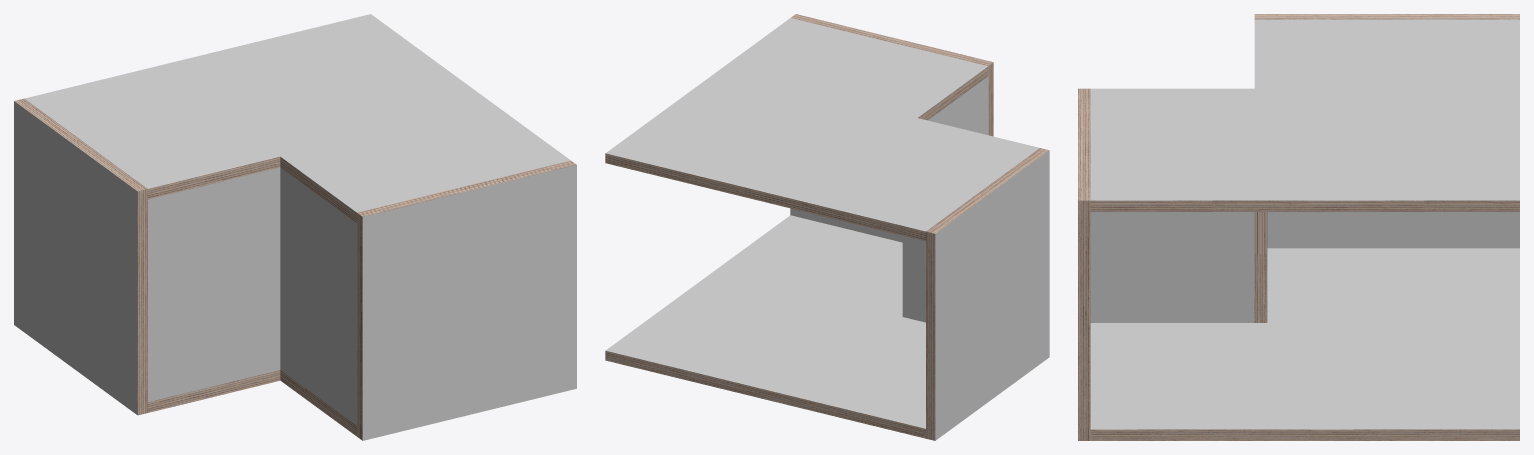
Rendered from Reverse Closed Corner.fbx.
The picture shows the model from 3 angles, left to right: view 1: azimuth 30°, elevation 25°; view 2: azimuth 150°, elevation 25°; view 3: azimuth 270°, elevation 25°; orthographic projection. The views are drawn at different scales.
Parts seen in each view (by area): view 1: Reverse Corner Closed TL, Reverse Corner Closed TM, Reverse Corner Closed TR, Reverse Corner Closed L, Reverse Corner Closed BL, Reverse Corner Closed BR, Reverse Corner Closed R, Reverse Corner Closed TMR, Reverse Corner Closed TML, Reverse Corner Closed CR, Reverse Corner Closed BMR, Reverse Corner Closed BML (+1 smaller); view 2: Reverse Corner Closed BM, Reverse Corner Closed TM, Reverse Corner Closed TR, Reverse Corner Closed BR, Reverse Corner Closed TL, Reverse Corner Closed R, Reverse Corner Closed TML, Reverse Corner Closed TMR, Reverse Corner Closed BMR, Reverse Corner Closed BML, Reverse Corner Closed BL; view 3: Reverse Corner Closed BM, Reverse Corner Closed TM, Reverse Corner Closed BR, Reverse Corner Closed BML, Reverse Corner Closed BL, Reverse Corner Closed TL, Reverse Corner Closed TML, Reverse Corner Closed TMR, Reverse Corner Closed TR, Reverse Corner Closed BMR, Reverse Corner Closed L, Reverse Corner Closed CL (+1 smaller).
Part boxes in pixels (<box>): Reverse Corner Closed TL: <box>321,134,576,291</box>; Reverse Corner Closed TM: <box>157,14,493,156</box>; Reverse Corner Closed TR: <box>14,83,208,265</box>; Reverse Corner Closed L: <box>321,239,576,365</box>; Reverse Corner Closed BL: <box>321,314,576,440</box>; Reverse Corner Closed BR: <box>14,250,208,415</box>; Reverse Corner Closed R: <box>14,176,208,340</box>; Reverse Corner Closed TMR: <box>86,66,280,248</box>; Reverse Corner Closed TML: <box>280,104,535,261</box>; Reverse Corner Closed CR: <box>209,231,280,323</box>; Reverse Corner Closed BMR: <box>209,306,280,397</box>; Reverse Corner Closed BML: <box>280,306,321,410</box>; Reverse Corner Closed BM: <box>605,258,912,408</box>; Reverse Corner Closed TM: <box>605,70,916,211</box>; Reverse Corner Closed TR: <box>869,134,1049,302</box>; Reverse Corner Closed BR: <box>869,288,1049,440</box>; Reverse Corner Closed TL: <box>758,14,993,135</box>; Reverse Corner Closed R: <box>926,219,1049,371</box>; Reverse Corner Closed TML: <box>720,42,955,127</box>; Reverse Corner Closed TMR: <box>803,118,983,227</box>; Reverse Corner Closed BMR: <box>803,260,925,424</box>; Reverse Corner Closed BML: <box>720,239,902,311</box>; Reverse Corner Closed BL: <box>758,208,902,274</box>; Reverse Corner Closed BM: <box>1254,254,1519,440</box>; Reverse Corner Closed TM: <box>1254,88,1519,211</box>; Reverse Corner Closed BR: <box>1267,212,1519,280</box>; Reverse Corner Closed BML: <box>1166,254,1254,440</box>; Reverse Corner Closed BL: <box>1078,254,1166,440</box>; Reverse Corner Closed TL: <box>1078,88,1166,280</box>; Reverse Corner Closed TML: <box>1166,88,1254,211</box>; Reverse Corner Closed TMR: <box>1254,51,1519,88</box>; Reverse Corner Closed TR: <box>1254,14,1519,51</box>; Reverse Corner Closed BMR: <box>1267,280,1519,317</box>; Reverse Corner Closed L: <box>1078,212,1166,360</box>; Reverse Corner Closed CL: <box>1166,212,1254,254</box>.
Bounding box in the file's own units: 66.67 × 40 × 66.67.
